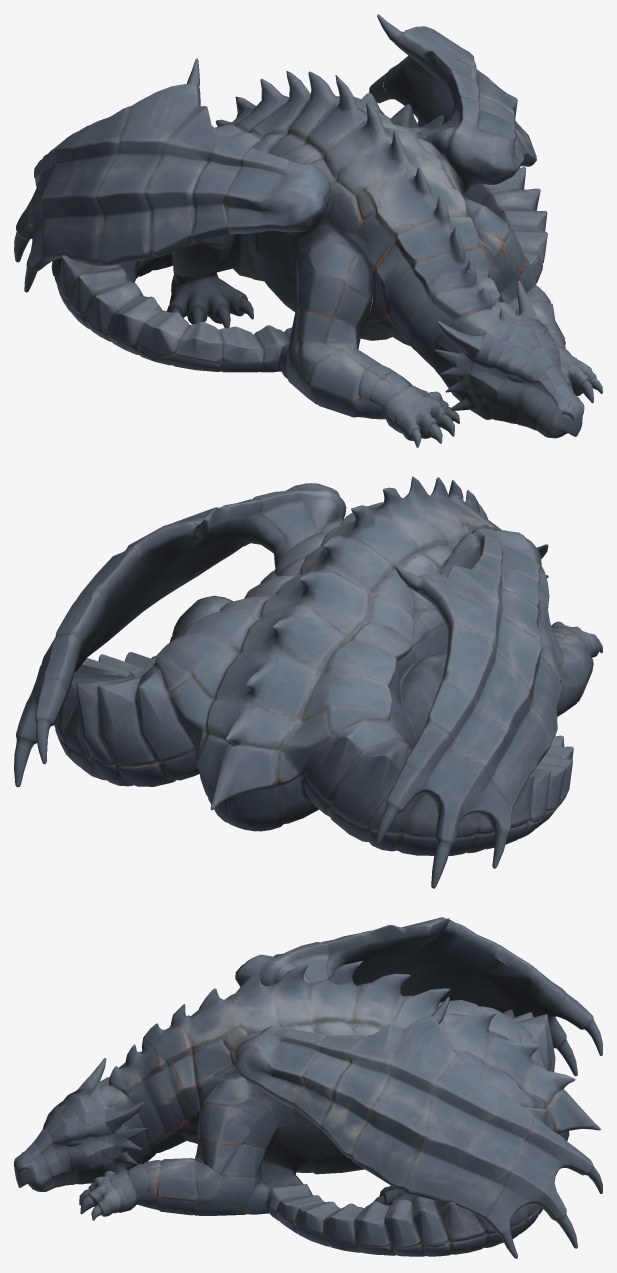
Rendered from ejder_kaba.glb.
3 views of the same model, one above another, from view 1: azimuth 30°, elevation 25°; view 2: azimuth 150°, elevation 25°; view 3: azimuth 270°, elevation 25° (orthographic). The views are drawn at different scales.
Visible parts, largest first — view 1: tripo_342f71cf_5027_4424_a9a7_7065e119ace0; view 2: tripo_342f71cf_5027_4424_a9a7_7065e119ace0; view 3: tripo_342f71cf_5027_4424_a9a7_7065e119ace0.
Part boxes in pixels (x1,y1,x2,y2): tripo_342f71cf_5027_4424_a9a7_7065e119ace0: (14,14,602,447); tripo_342f71cf_5027_4424_a9a7_7065e119ace0: (14,476,602,888); tripo_342f71cf_5027_4424_a9a7_7065e119ace0: (14,917,602,1258).
Bounding box in the file's own units: 0.8003 × 0.4009 × 0.9995.
Materials: 1 (1 with a texture image).
